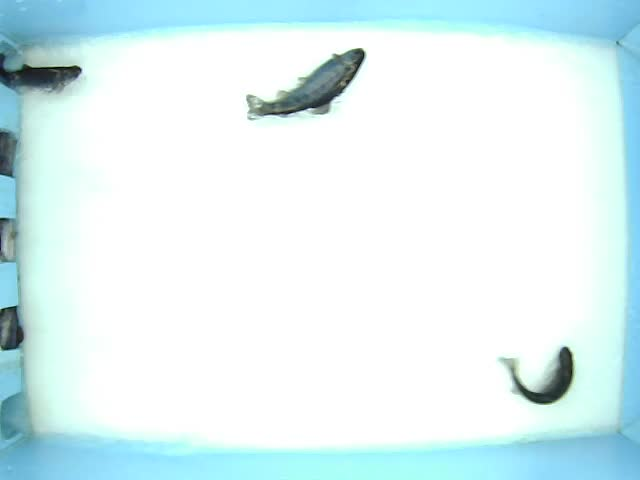fish: (242, 47, 377, 132), (495, 346, 602, 416), (5, 68, 99, 91)
